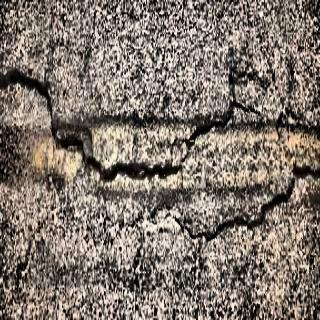crack: (0, 66, 276, 178), (106, 164, 320, 266)
